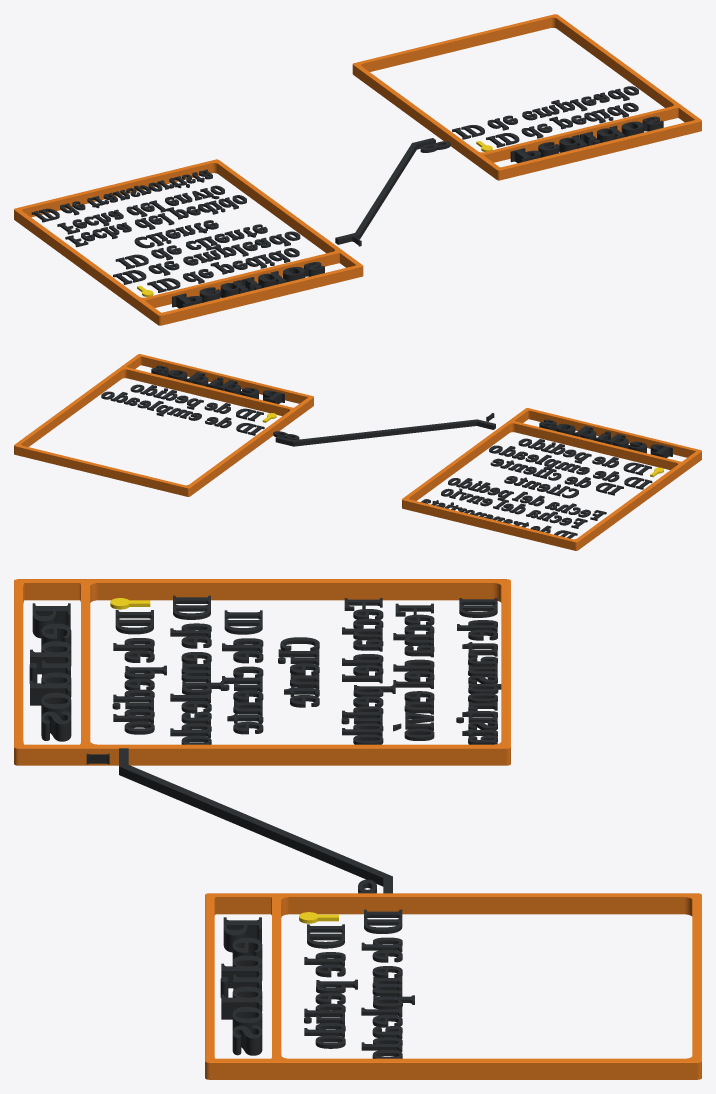
The model's file is relaciones.obj.
The picture shows the model from 3 angles, top to bottom: view 1: azimuth 30°, elevation 25°; view 2: azimuth 150°, elevation 25°; view 3: azimuth 270°, elevation 25°; orthographic projection. The views are drawn at different scales.
Parts seen in each view (by area): view 1: group_0_16089887, group_0_2829873; view 2: group_0_16089887, group_0_2829873; view 3: group_0_16089887, group_0_2829873.
Part boxes in pixels (x1,y1,x2,y2): group_0_16089887: (14,14,701,325); group_0_2829873: (31,86,663,308); group_0_16089887: (14,354,701,550); group_0_2829873: (101,365,672,538); group_0_16089887: (14,579,701,1079); group_0_2829873: (29,595,501,1058).
Size of the model in its own units: 61.5 by 1.75 by 36.
